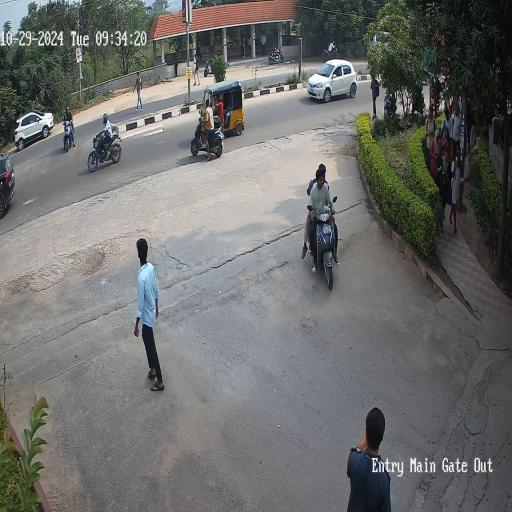helmet: (93, 109, 118, 140)
no helmet: (198, 93, 225, 123), (310, 166, 334, 199)
